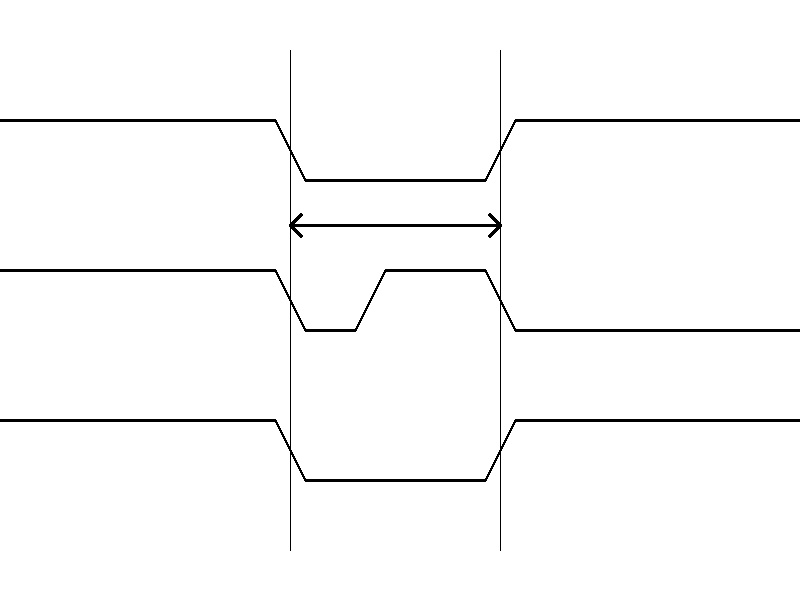double_arrow: (290, 210, 500, 240)
